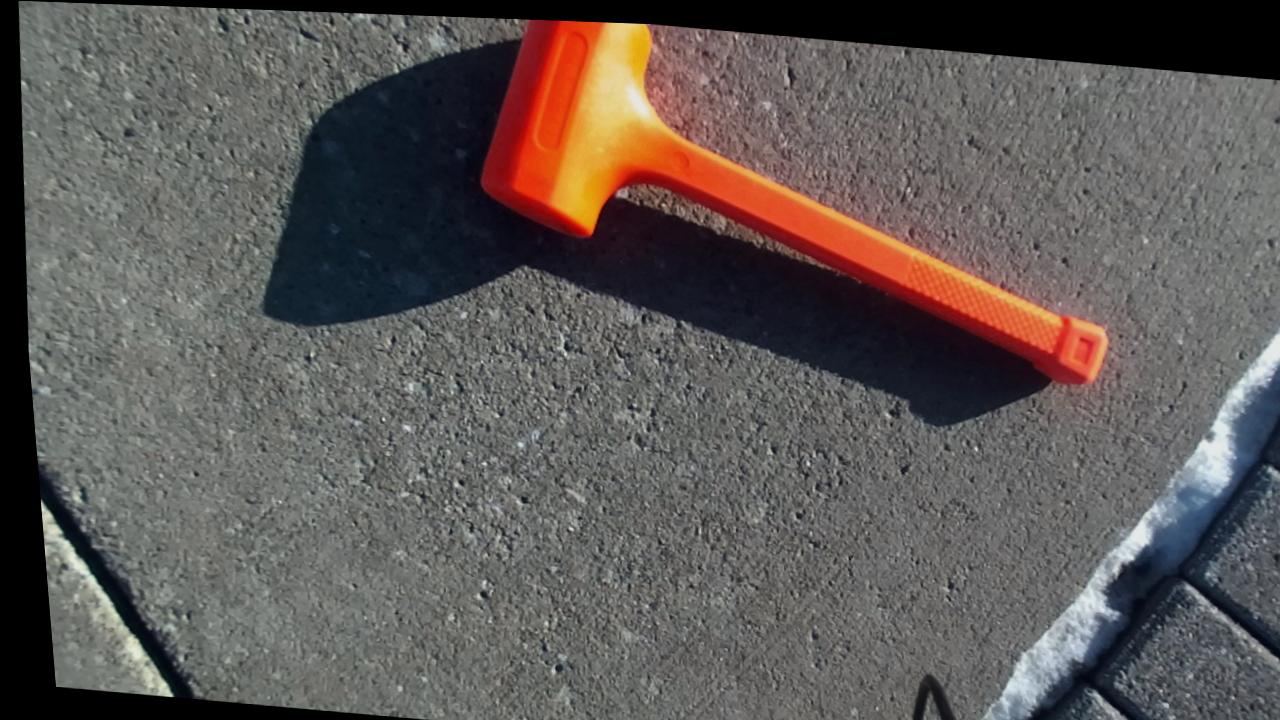mallet: (480, 20, 1106, 383)
